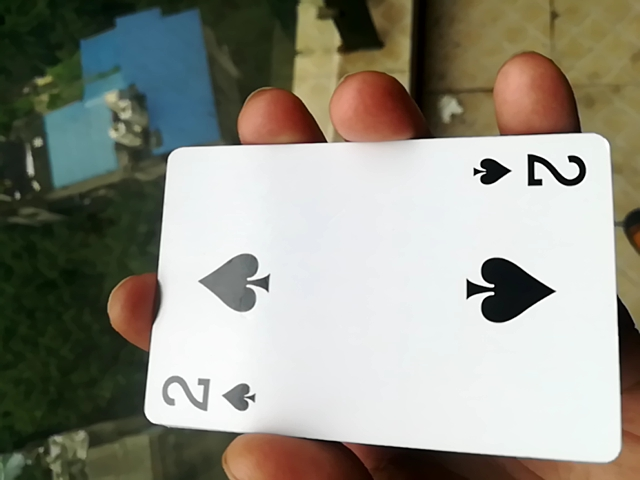ht 2: (136, 130, 612, 476)
